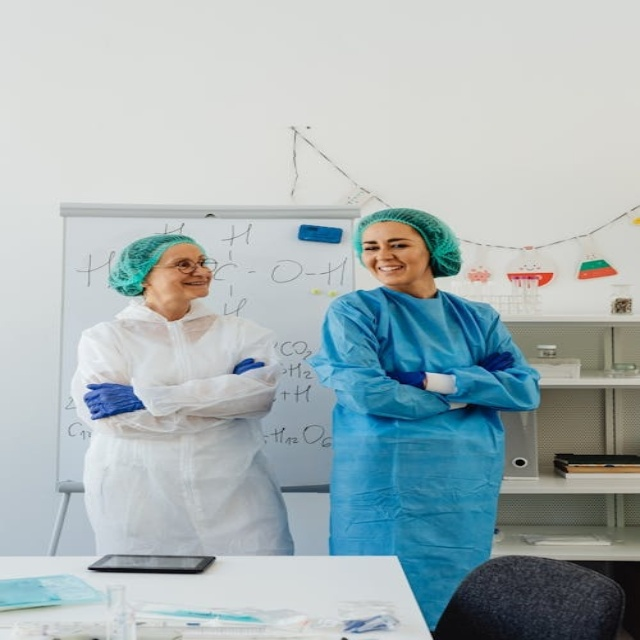Gafas: (145, 254, 223, 271)
Guantes: (84, 382, 145, 419), (479, 351, 515, 373), (391, 371, 427, 389), (233, 358, 265, 376)
Sin_gafas: (356, 235, 428, 254)
Sin_mascara: (371, 260, 413, 280), (170, 276, 214, 295)
